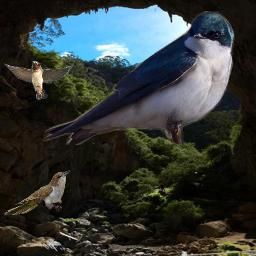Cuckoo: (4, 170, 71, 215)
Swallow: (43, 11, 235, 145), (3, 61, 73, 100)
